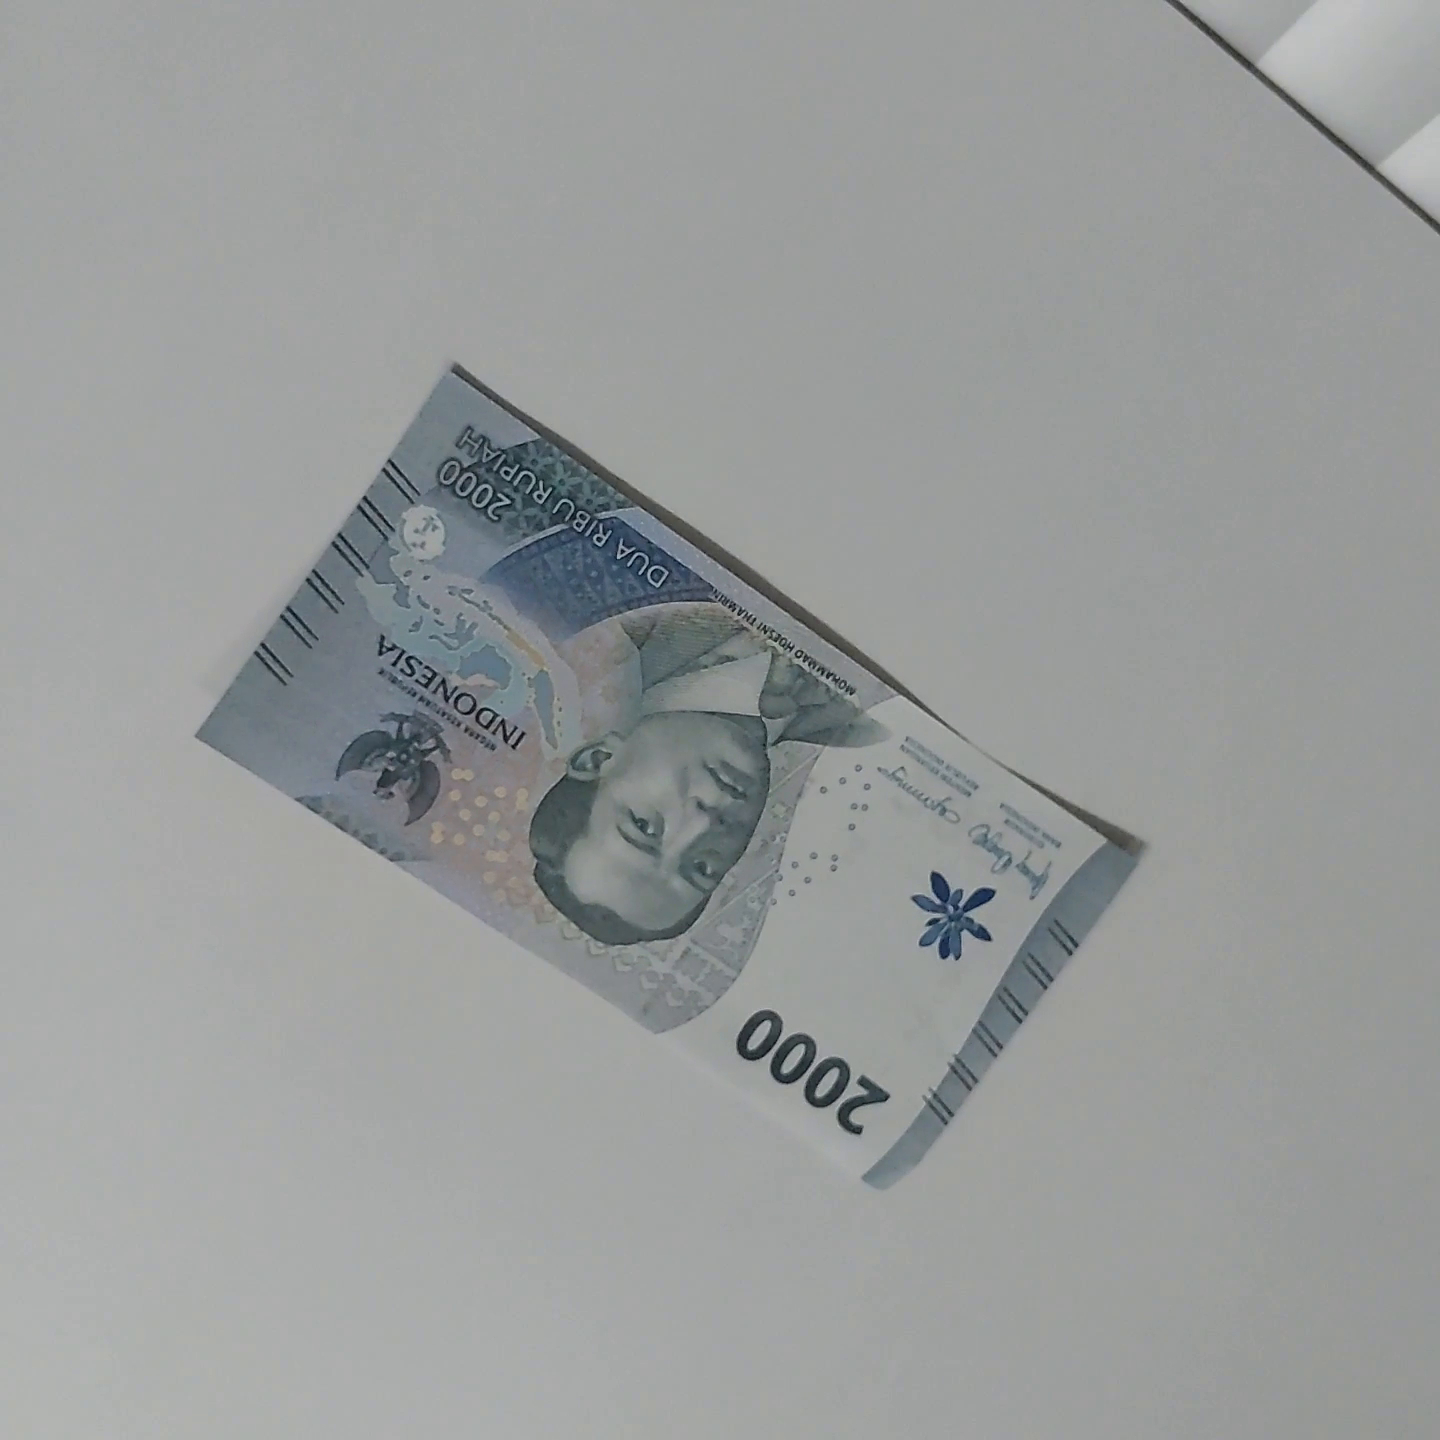2k: (198, 371, 1153, 1208)
